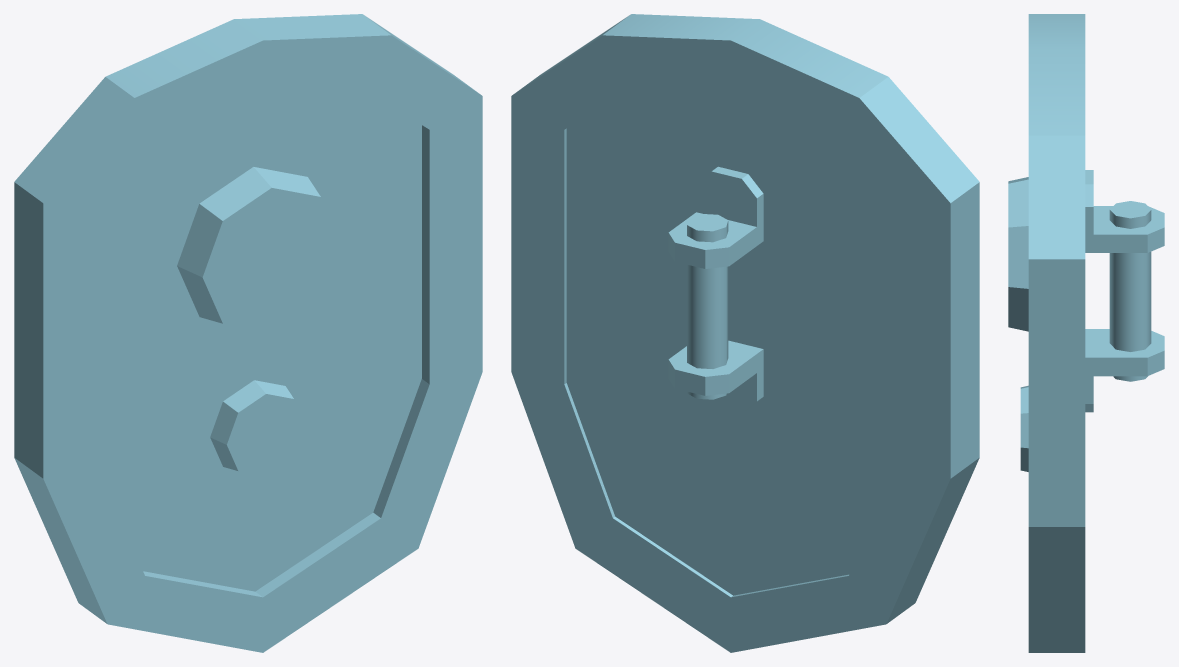
The model's file is Peasnat_Shield_V2.fbx.
3 views of the same model, side by side, from view 1: azimuth 30°, elevation 25°; view 2: azimuth 150°, elevation 25°; view 3: azimuth 270°, elevation 25° (orthographic). The views are drawn at different scales.
Visible parts, largest first — view 1: Peasant_Shield_V2; view 2: Peasant_Shield_V2; view 3: Peasant_Shield_V2.
Part boxes in pixels (x1,y1,x2,y2): Peasant_Shield_V2: (14,14,482,652); Peasant_Shield_V2: (511,14,979,652); Peasant_Shield_V2: (1008,14,1164,652).
Bounding box in the file's own units: 76.71 × 102 × 24.31.
